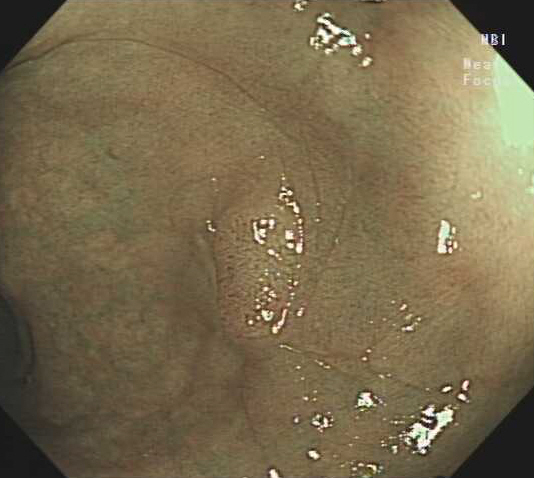adenoma: (207, 194, 305, 343)
